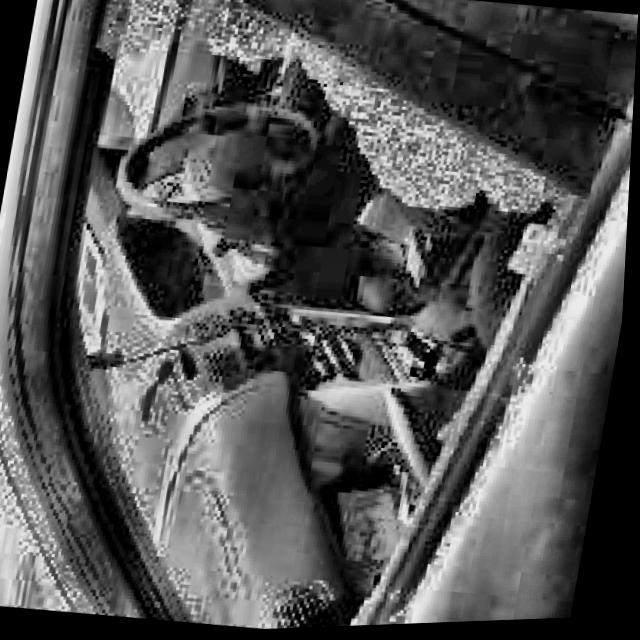glass_shatter: (36, 0, 568, 600)
